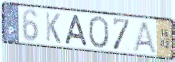6: (21, 8, 41, 44)
7: (111, 17, 131, 52)
A: (131, 21, 159, 55), (64, 14, 89, 47)
K: (45, 11, 62, 46)
O: (87, 16, 110, 51)
